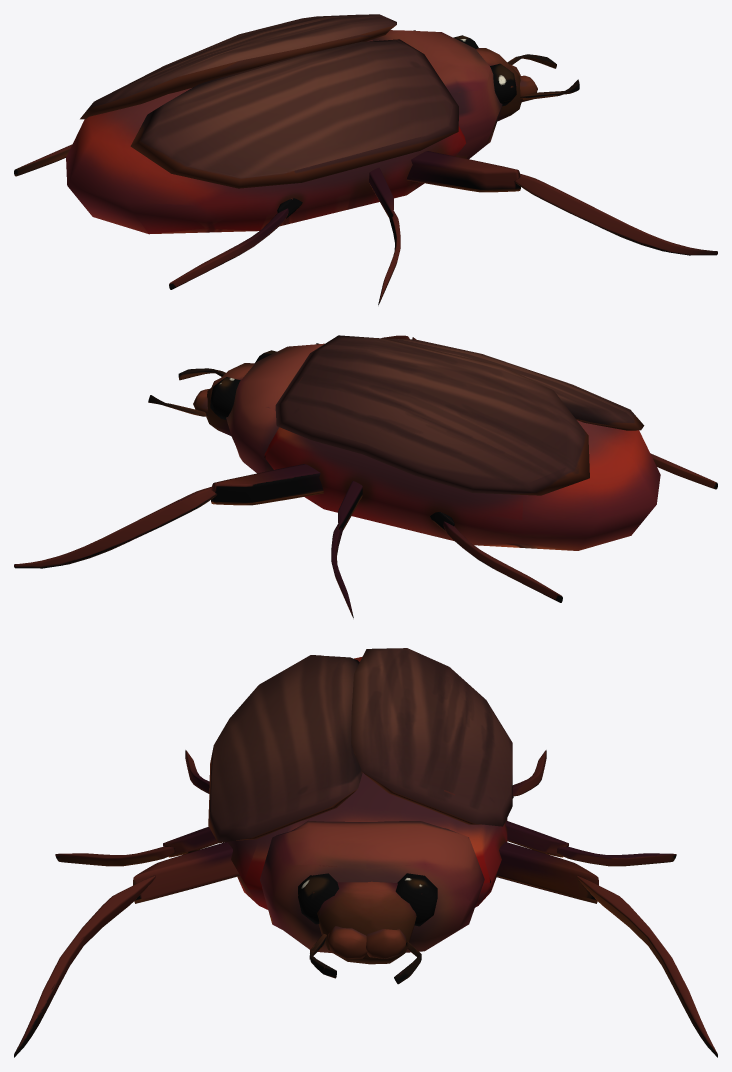
File: escarabajo2 (1).fbx
The picture shows the model from 3 angles, top to bottom: view 1: azimuth 30°, elevation 25°; view 2: azimuth 150°, elevation 25°; view 3: azimuth 270°, elevation 25°; orthographic projection. The views are drawn at different scales.
Visible parts, largest first — view 1: cucaracho; view 2: cucaracho; view 3: cucaracho.
Boxes of the visible parts, box(x1,y1,x2,y2) form: cucaracho: box(14, 14, 717, 305); cucaracho: box(14, 335, 717, 618); cucaracho: box(14, 648, 717, 1057).
Bounding box in the file's own units: 2357 × 776 × 2477.
